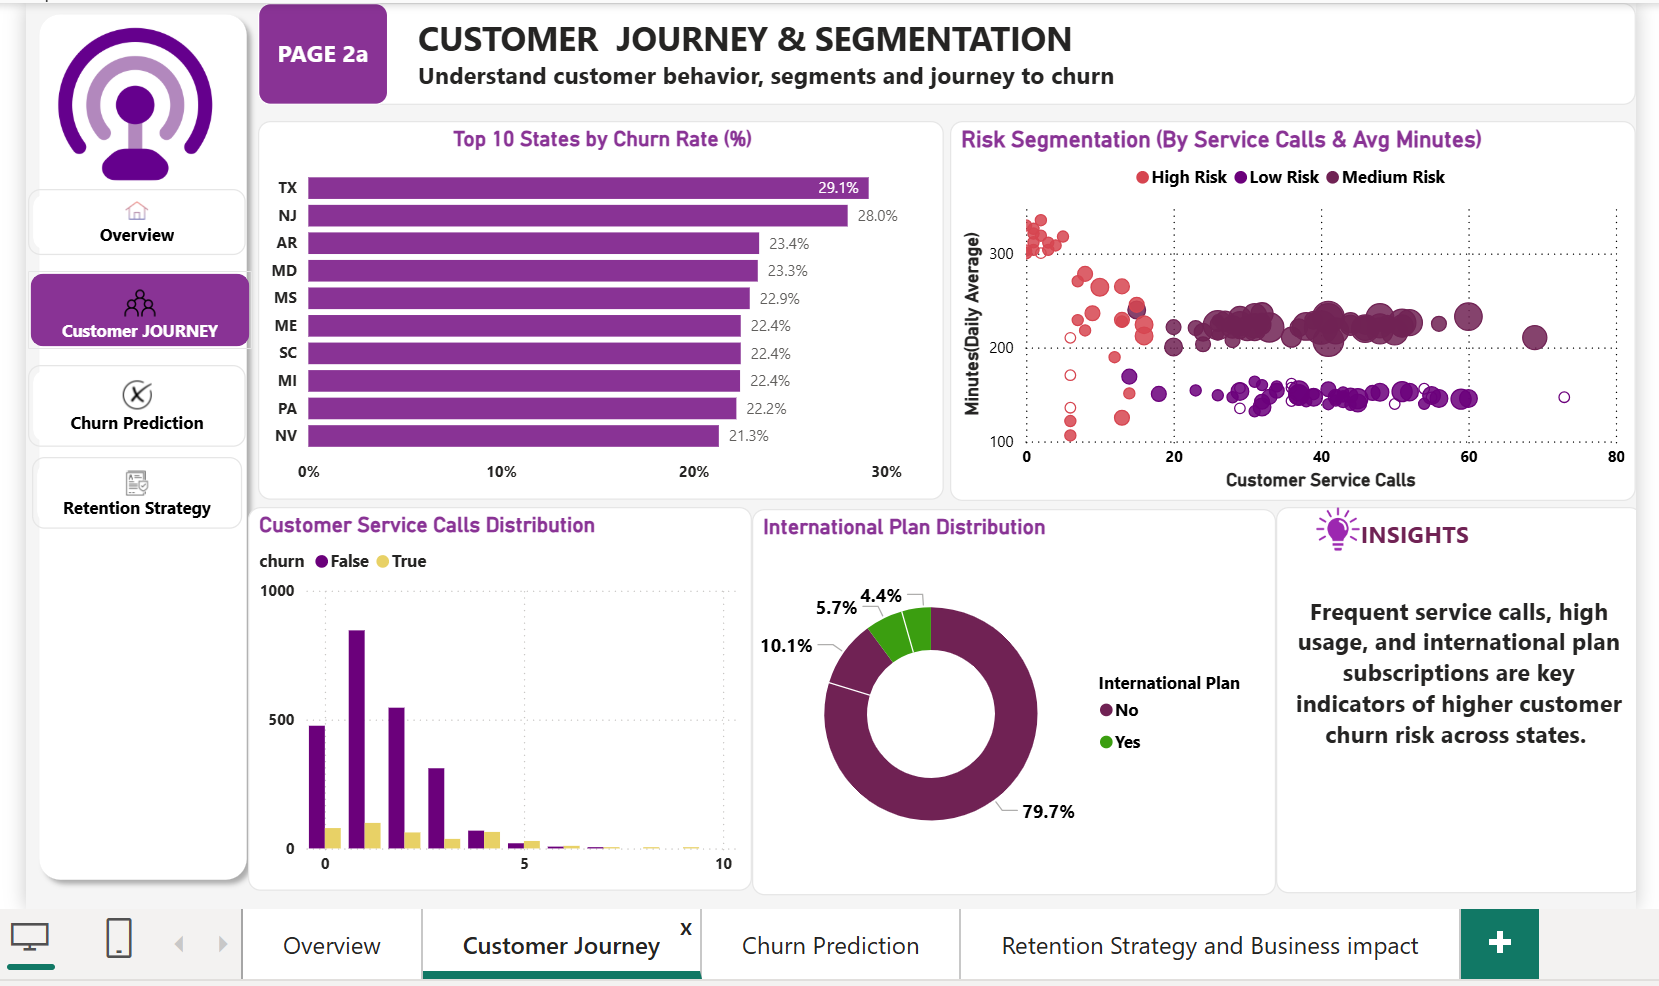

The page's visual inventory and layout, read from the dashboard file:
{"tool":"powerbi","page":{"name":"Customer Journey","canvas":[1280,720],"ordinal":1},"visuals":[{"type":"shape","box":[1.6,0,182.8,705.7],"z":0},{"type":"image","box":[19.1,14.3,135.1,133.5],"z":1000},{"type":"actionButton","box":[1.6,147.8,173.2,52.5],"z":2000},{"type":"actionButton","box":[1.6,213,178,62],"z":3000},{"type":"actionButton","box":[1.6,287.7,173.2,65.2],"z":4000},{"type":"actionButton","box":[4.8,360.8,166.9,57.2],"z":5000},{"type":"textbox","box":[273.4,0,1006.1,81.1],"z":7000},{"type":"textbox","box":[184.4,0,103.3,81.1],"z":8000},{"type":"clusteredBarChart","title":"Top 10 States by Churn Rate (%)","fields":{"Category":["telecom churn.State"],"Y":["telecom churn.CHURN RATE"]},"box":[184.4,93.8,545.2,301],"z":9000},{"type":"clusteredColumnChart","title":" Customer Service Calls Distribution","fields":{"Category":["telecom churn.Customer Service Calls"],"Series":["telecom churn.churn"],"Y":["telecom churn.CUSTOMERS"]},"box":[176.4,400.5,400.5,305.2],"z":10000},{"type":"scatterChart","title":"Risk Segmentation (By Service Calls & Avg Minutes)","fields":{"X":["Sum(telecom churn.Customer Service Calls)"],"Series":["telecom churn.Risk Segment"],"Category":["telecom churn.State"],"Y":["telecom churn.AVG MINS"],"Size":["telecom churn.CHURNED"]},"box":[734.3,93.8,545.2,302],"z":11000},{"type":"donutChart","title":"International Plan Distribution","fields":{"Category":["telecom churn.International Plan"],"Y":["telecom churn.CUSTOMERS"],"Series":["telecom churn.churn"]},"box":[577,402.1,416.4,306.8],"z":12000},{"type":"textbox","box":[993.4,400.5,290.9,306.8],"z":18000},{"type":"image","box":[1020.4,400.5,44.5,35],"z":19000}]}

Visuals, with their boxes on the page's 1280x720 design canvas (x1, y1, x2, y2). These are canvas units, not pixel positions in the 1659x986 screenshot, which may show the page scaled, cropped or inside an application window:
shape: <box>2,0,184,706</box>
image: <box>19,14,154,148</box>
actionButton: <box>2,148,175,200</box>
actionButton: <box>2,213,180,275</box>
actionButton: <box>2,288,175,353</box>
actionButton: <box>5,361,172,418</box>
textbox: <box>273,0,1280,81</box>
textbox: <box>184,0,288,81</box>
"Top 10 States by Churn Rate (%)" clusteredBarChart: <box>184,94,730,395</box>
" Customer Service Calls Distribution" clusteredColumnChart: <box>176,400,577,706</box>
"Risk Segmentation (By Service Calls & Avg Minutes)" scatterChart: <box>734,94,1280,396</box>
"International Plan Distribution" donutChart: <box>577,402,993,709</box>
textbox: <box>993,400,1284,707</box>
image: <box>1020,400,1065,436</box>
